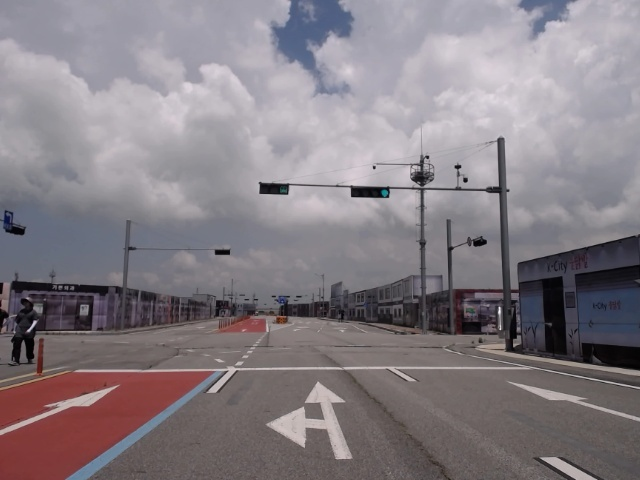straight_green_4: (352, 187, 391, 197)
